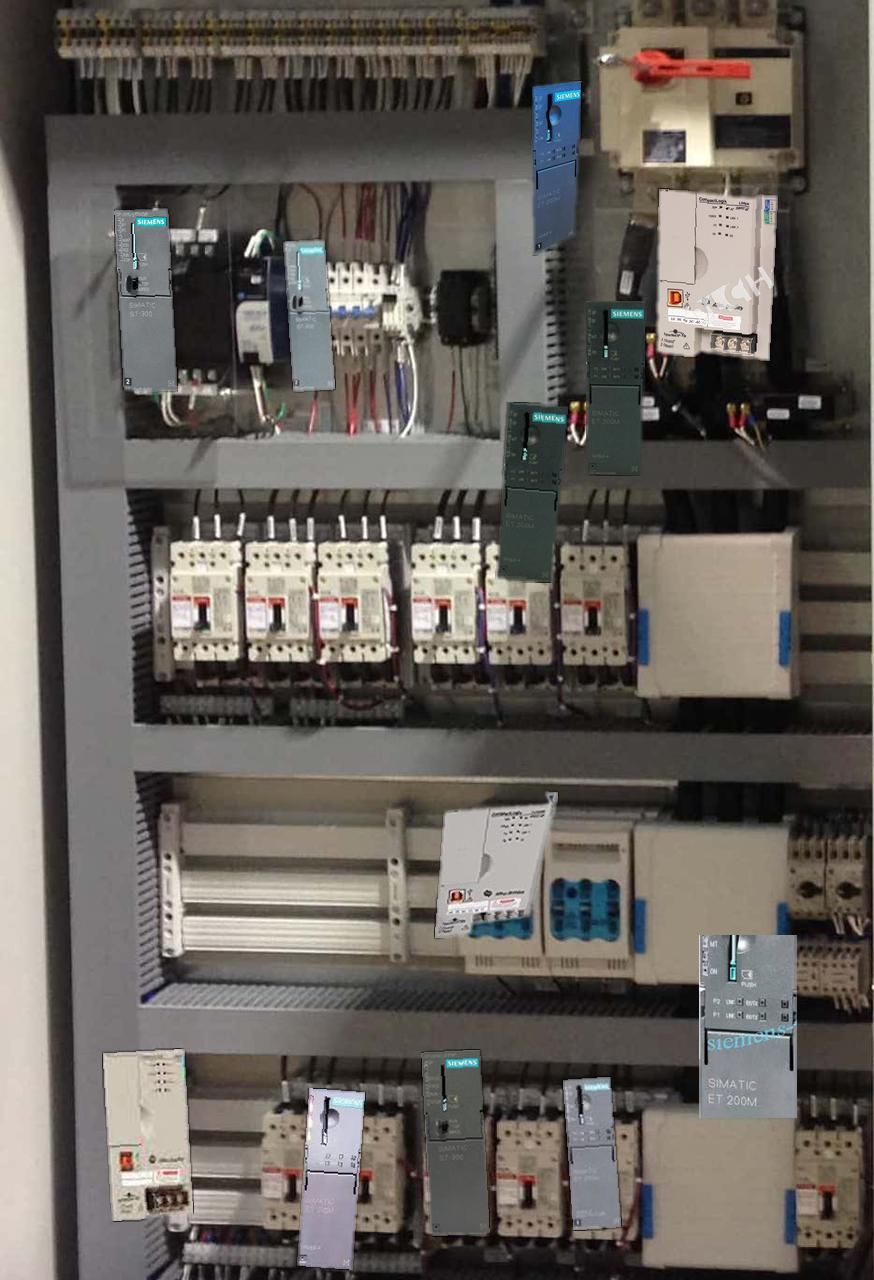AllenBradley: (657, 189, 776, 360), (435, 792, 557, 937), (103, 1049, 192, 1220)
Siemens: (421, 1050, 489, 1235), (114, 209, 177, 390), (284, 240, 334, 390)
